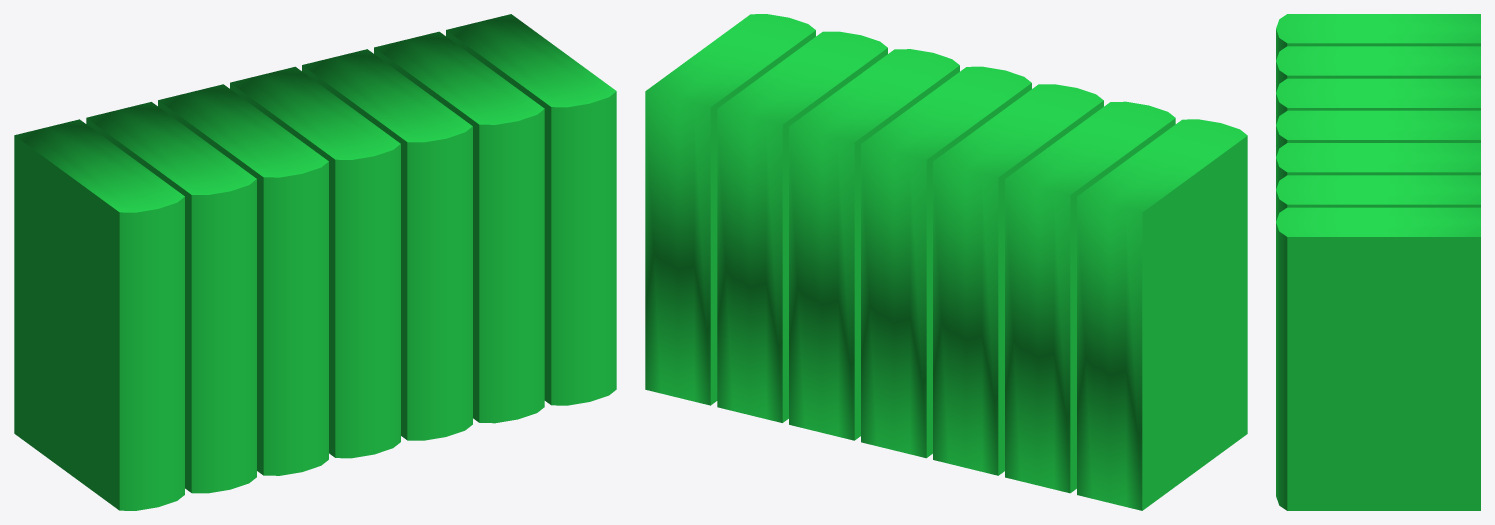
Rendered from Book-Row03.fbx.
3 views of the same model, side by side, from view 1: azimuth 30°, elevation 25°; view 2: azimuth 150°, elevation 25°; view 3: azimuth 270°, elevation 25° (orthographic). The views are drawn at different scales.
Parts seen in each view (by area): view 1: Book-Row-03_low.003; view 2: Book-Row-03_low.003; view 3: Book-Row-03_low.003.
Part boxes in pixels (left/top/right/bottom): Book-Row-03_low.003: left=14, top=14, right=616, bottom=510; Book-Row-03_low.003: left=645, top=14, right=1247, bottom=510; Book-Row-03_low.003: left=1276, top=14, right=1480, bottom=510.
Size of the model in its own units: 45.61 by 17.72 by 26.15.
